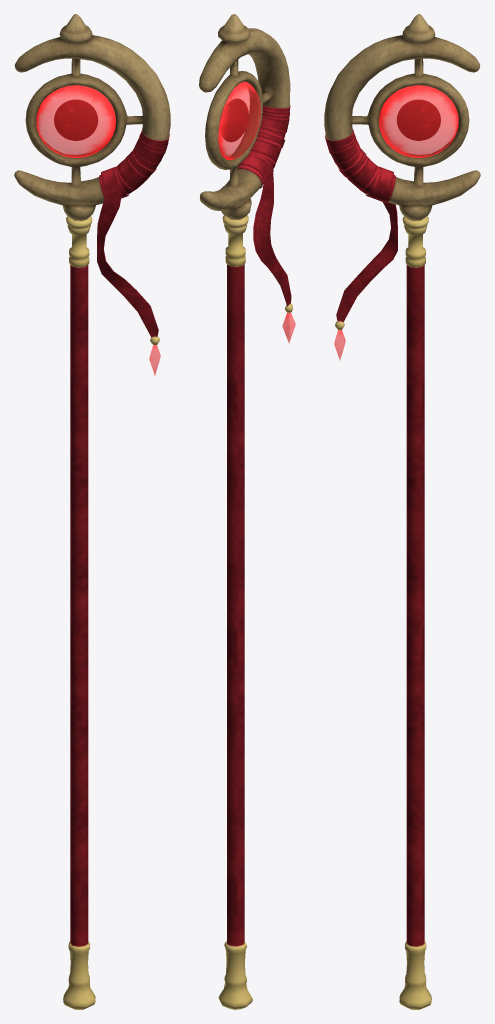
Rendered from frieren_staff.glb.
3 views of the same model, side by side, from view 1: azimuth 90°, elevation 25°; view 2: azimuth 150°, elevation 25°; view 3: azimuth 270°, elevation 25° (orthographic).
Visible parts, largest first — view 1: Cylinder.007_4, Sphere.001_2; view 2: Cylinder.007_4, Sphere.001_2; view 3: Cylinder.007_4, Sphere.001_2.
Boxes of the visible parts, x1=… form: Cylinder.007_4: x1=14, y1=14, x2=170, y2=1009; Sphere.001_2: x1=97, y1=129, x2=169, y2=375; Cylinder.007_4: x1=199, y1=14, x2=290, y2=1009; Sphere.001_2: x1=238, y1=105, x2=295, y2=343; Cylinder.007_4: x1=324, y1=14, x2=480, y2=1009; Sphere.001_2: x1=325, y1=129, x2=397, y2=359.
Size of the model in its own units: 6.68 by 160 by 22.87.
1 material, 1 textured.
